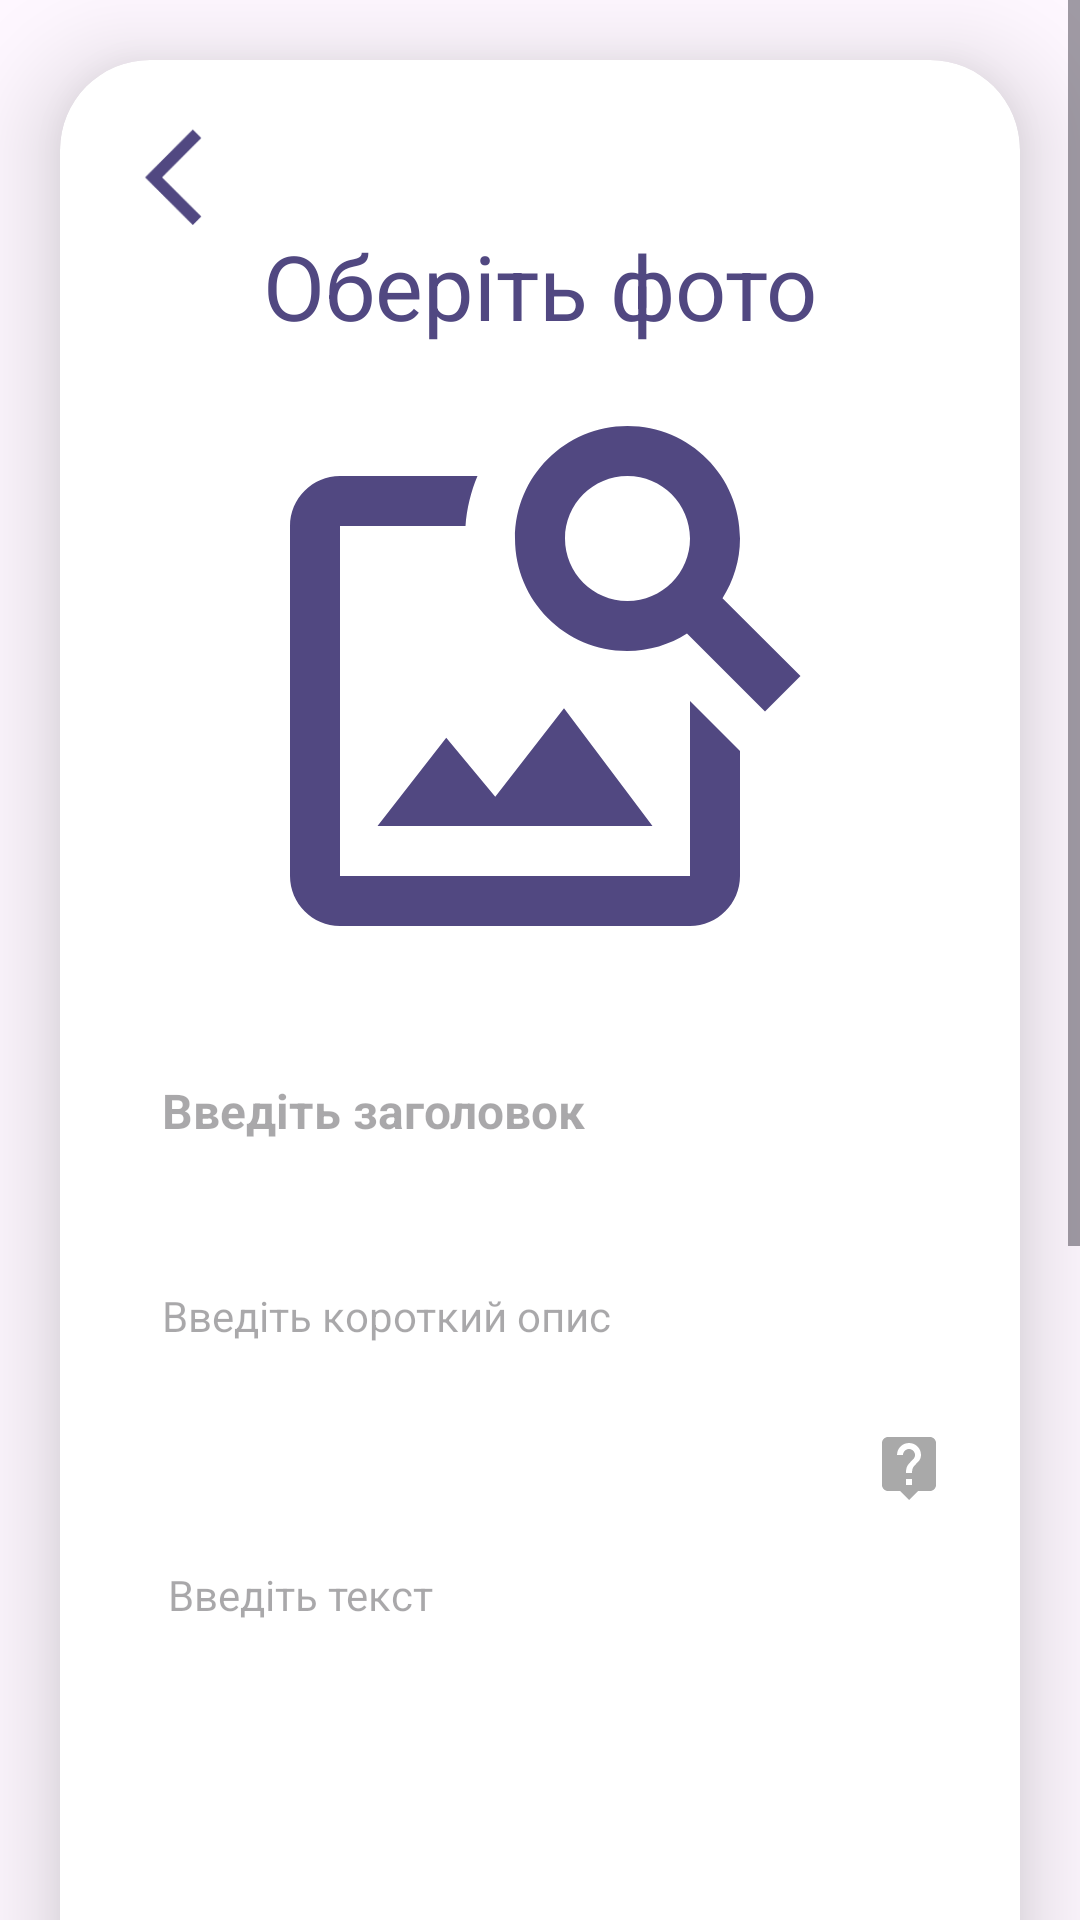

Screen size 1080 x 1920. Icon name, then its box in pixels as (x1,y1,x2,y2):
arrow back baseline: (145,129,201,225)
live help: (882,1437,936,1500)
